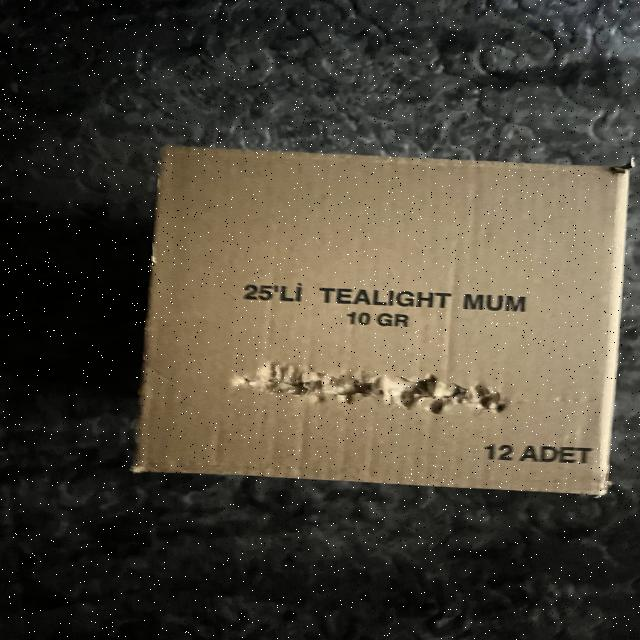damaged: (144, 128, 629, 510), (224, 348, 523, 424)
